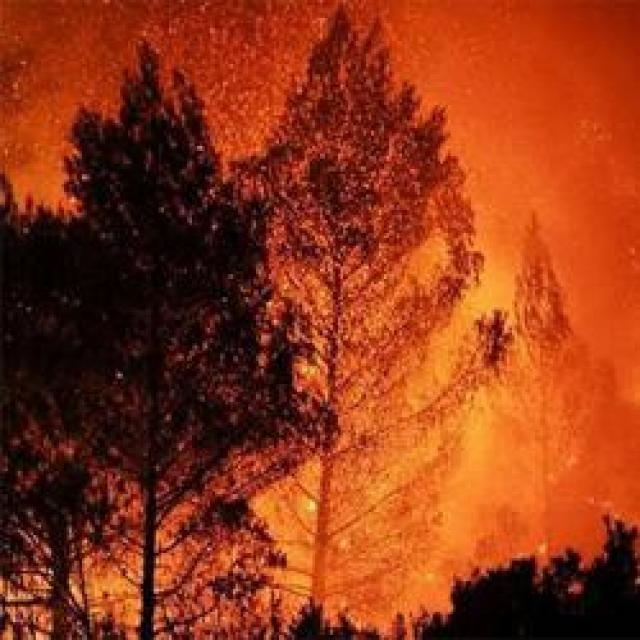fire: (262, 66, 614, 565)
